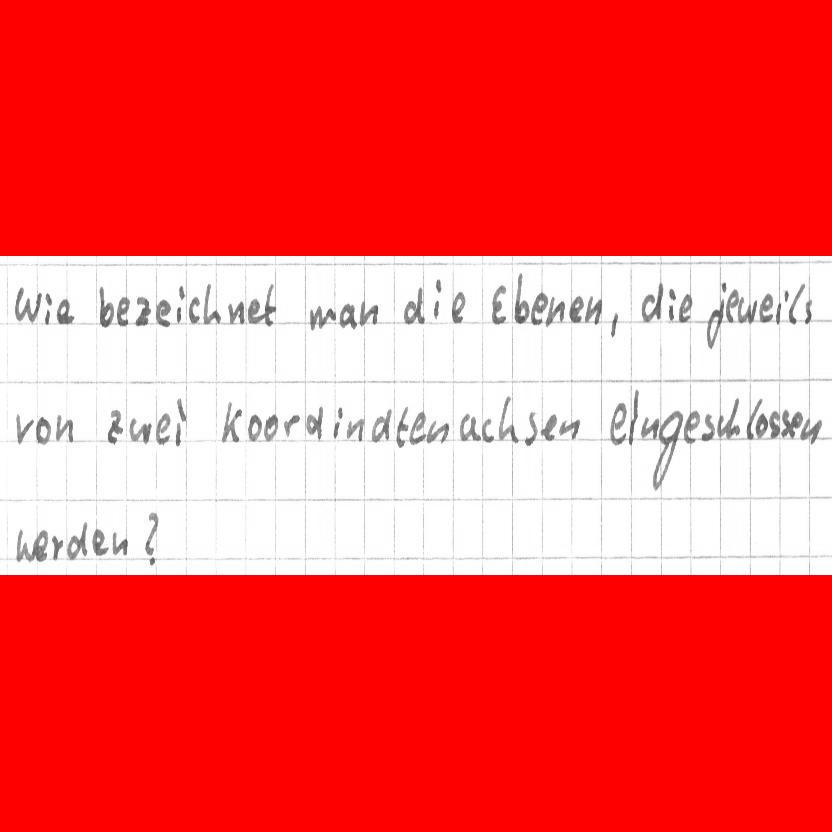Char: (651, 408, 683, 491), (705, 279, 726, 351), (139, 510, 161, 567), (218, 399, 245, 445), (496, 394, 520, 444), (13, 284, 43, 323), (401, 285, 428, 326), (640, 281, 665, 325), (609, 400, 631, 446), (65, 521, 90, 561), (202, 281, 223, 324), (513, 271, 530, 324), (626, 388, 641, 447), (95, 284, 114, 329), (369, 407, 392, 444), (725, 396, 742, 444), (304, 403, 326, 440), (127, 415, 153, 446), (13, 526, 35, 562), (309, 303, 337, 331), (174, 395, 189, 447), (489, 284, 508, 325), (13, 410, 34, 447), (544, 293, 566, 328), (104, 407, 124, 444), (798, 416, 823, 445), (53, 296, 77, 326), (744, 397, 760, 441), (408, 410, 428, 445), (521, 410, 540, 446), (33, 413, 54, 445), (425, 417, 449, 445), (358, 298, 380, 328), (55, 412, 75, 445), (395, 404, 410, 448), (458, 412, 480, 442), (584, 293, 604, 325), (530, 290, 548, 325), (682, 407, 699, 444), (557, 416, 582, 441), (789, 282, 804, 323), (449, 290, 467, 324), (737, 295, 758, 324), (431, 278, 445, 321), (153, 297, 173, 327), (344, 415, 366, 442), (91, 525, 110, 556), (338, 302, 359, 330), (638, 413, 659, 441), (757, 291, 775, 323), (773, 290, 789, 326), (155, 410, 171, 446), (540, 412, 559, 442), (173, 283, 186, 326), (246, 413, 264, 444), (115, 295, 132, 327), (34, 527, 50, 561), (226, 300, 246, 327), (676, 292, 693, 323), (264, 282, 276, 325), (330, 404, 344, 440), (263, 412, 279, 443), (135, 296, 152, 325), (725, 288, 739, 323), (282, 413, 302, 437), (700, 413, 716, 442), (42, 291, 55, 326), (570, 294, 585, 324), (185, 296, 201, 324), (247, 297, 262, 326), (788, 409, 803, 438), (49, 533, 65, 560), (712, 413, 727, 441), (778, 407, 791, 439), (112, 530, 127, 556), (481, 417, 495, 444), (753, 412, 767, 439), (767, 409, 779, 440), (667, 286, 677, 322), (801, 297, 813, 327), (608, 310, 620, 337)
